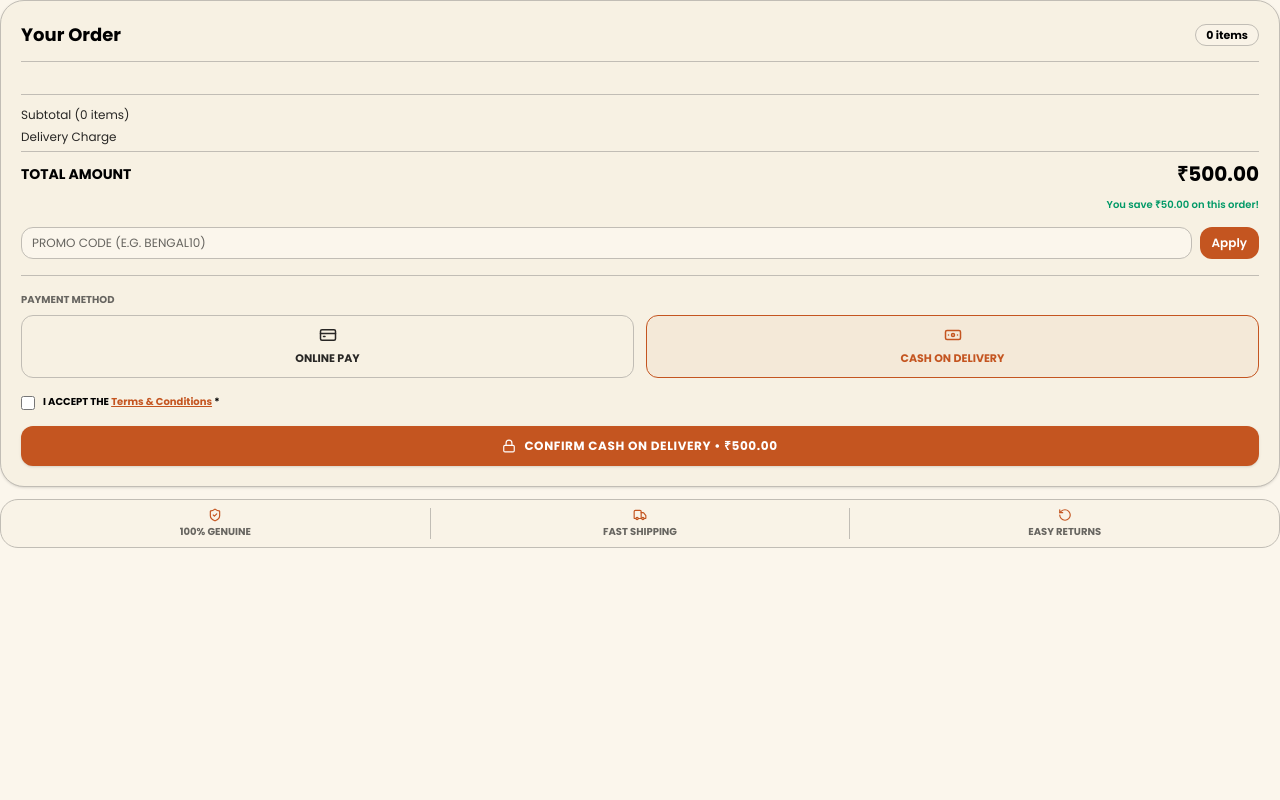
it: TermsConditionsDialog Component › opens modal from CheckoutOrderSummary and accepts terms
Check: the checkbox is not checked, box [21,396,35,410]
// Click "Terms & Conditions" link button
Click the button "Terms & Conditions": (162, 401) [111,394,212,409]
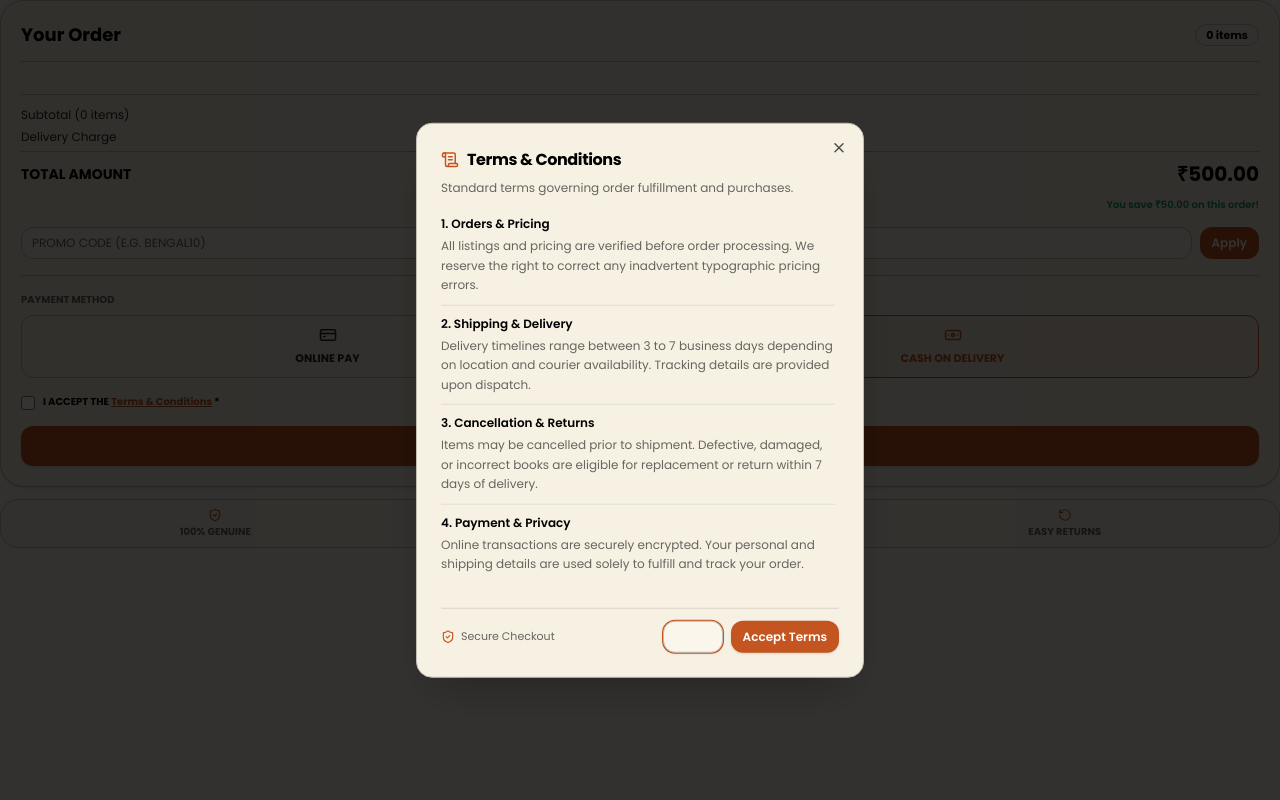
Check: the heading "Terms & Conditions" is shown, box [467,148,621,172]
// Click "Accept Terms" inside modal
Click the button "Accept Terms": (785, 636) [731,620,839,652]
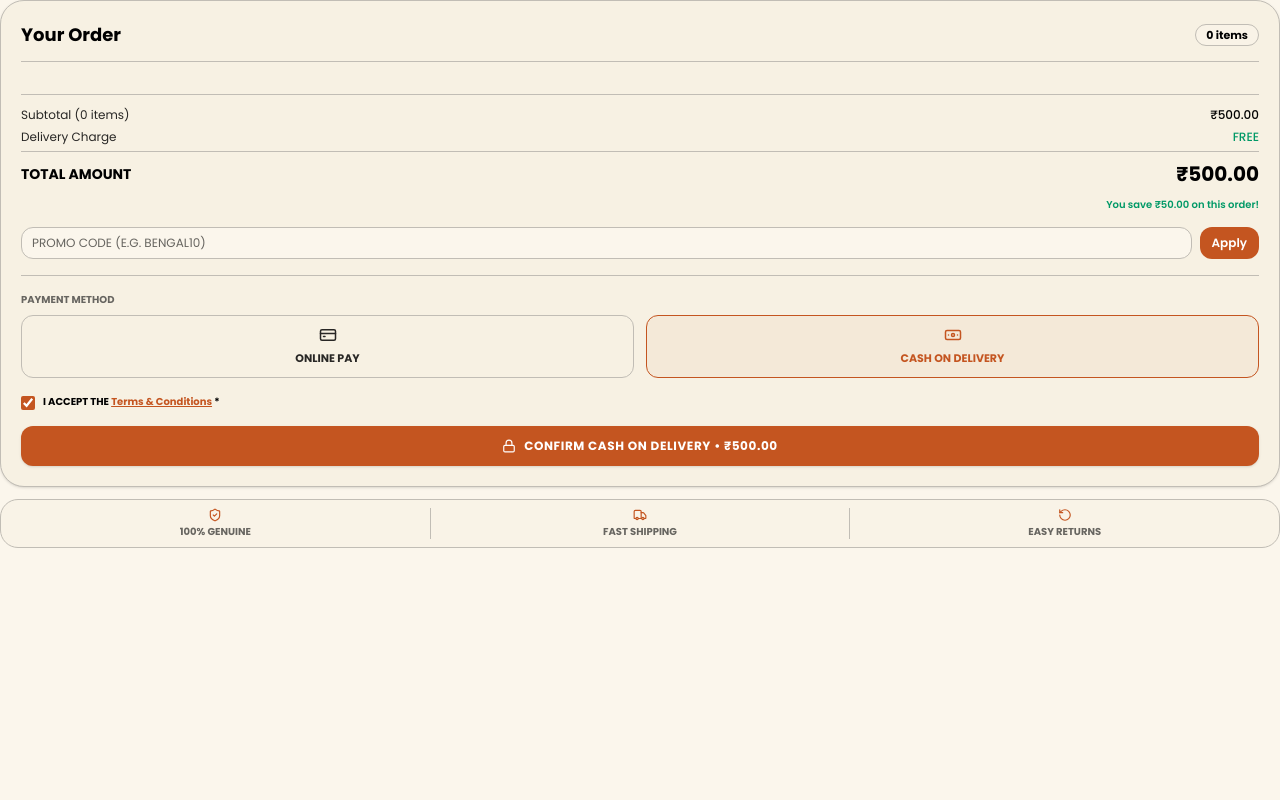
Check: the checkbox is checked, box [21,396,35,410]
